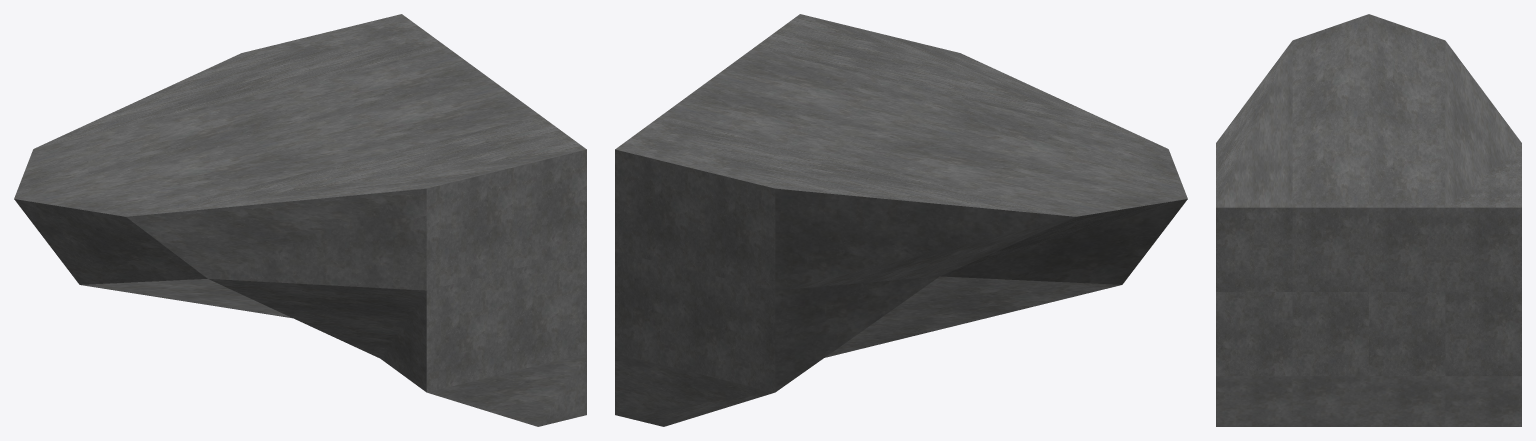
The model's file is pier.obj.
3 views of the same model, side by side, from view 1: azimuth 30°, elevation 25°; view 2: azimuth 150°, elevation 25°; view 3: azimuth 270°, elevation 25° (orthographic). The views are drawn at different scales.
Visible parts, largest first — view 1: Cube_Cube; view 2: Cube_Cube; view 3: Cube_Cube.
Boxes of the visible parts, x1,y1,x2,y2 form: Cube_Cube: (14, 14, 586, 426); Cube_Cube: (615, 14, 1187, 426); Cube_Cube: (1216, 14, 1521, 426).
Size of the model in its own units: 1199 by 633 by 800.
1 material, 1 textured.
